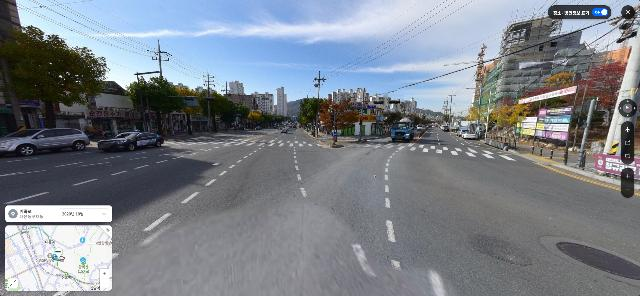ginkgo: (495, 100, 528, 149)
other: (1, 23, 115, 130), (124, 75, 186, 137), (576, 62, 625, 130), (317, 100, 358, 147), (174, 86, 202, 136), (196, 89, 226, 134), (307, 97, 328, 137), (219, 96, 237, 133)
